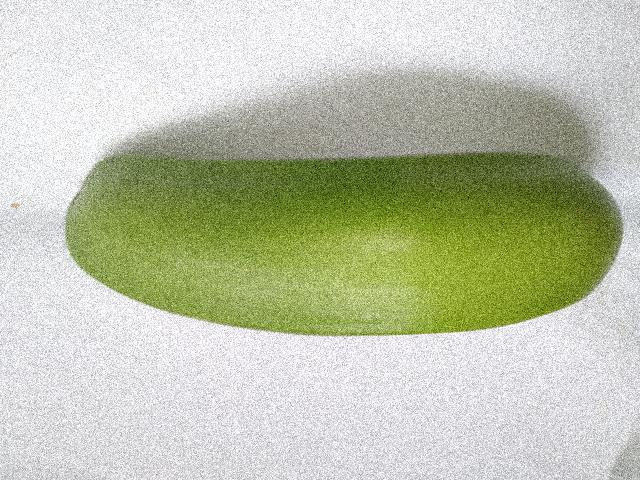freshunripe: (50, 136, 631, 342)
